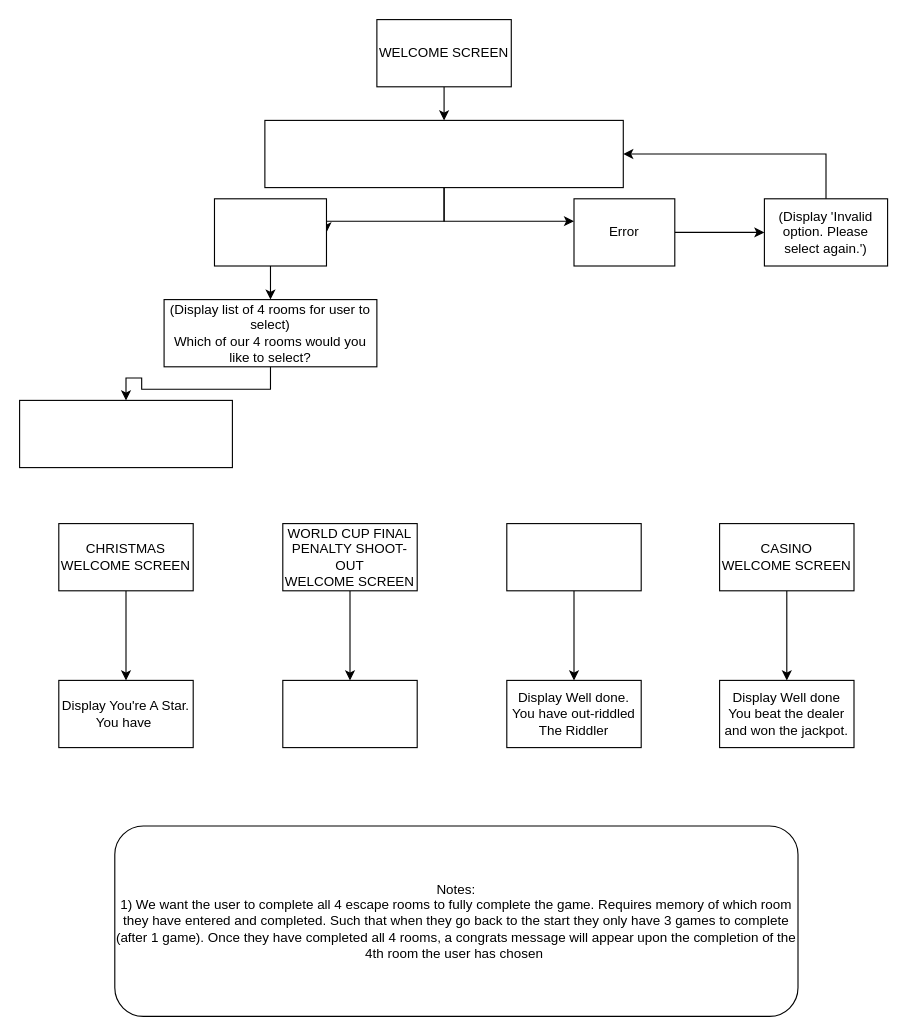
The diagram is 907 pixels wide and 1036 high, and some of its shapes have lost their labels. Here are the shapes that lost their labels. From the top down, the centre of each, then its label:
At (x=443, y=153): "Do you want to select a room? (Type 'Select' or 'Choose')".
At (x=269, y=232): "Select".
At (x=125, y=433): "You have chosen The {name of room} room.".
At (x=573, y=556): "RIDDLE WELCOME SCREEN".
At (x=349, y=713): "Display Well done. You've won the world cup".
